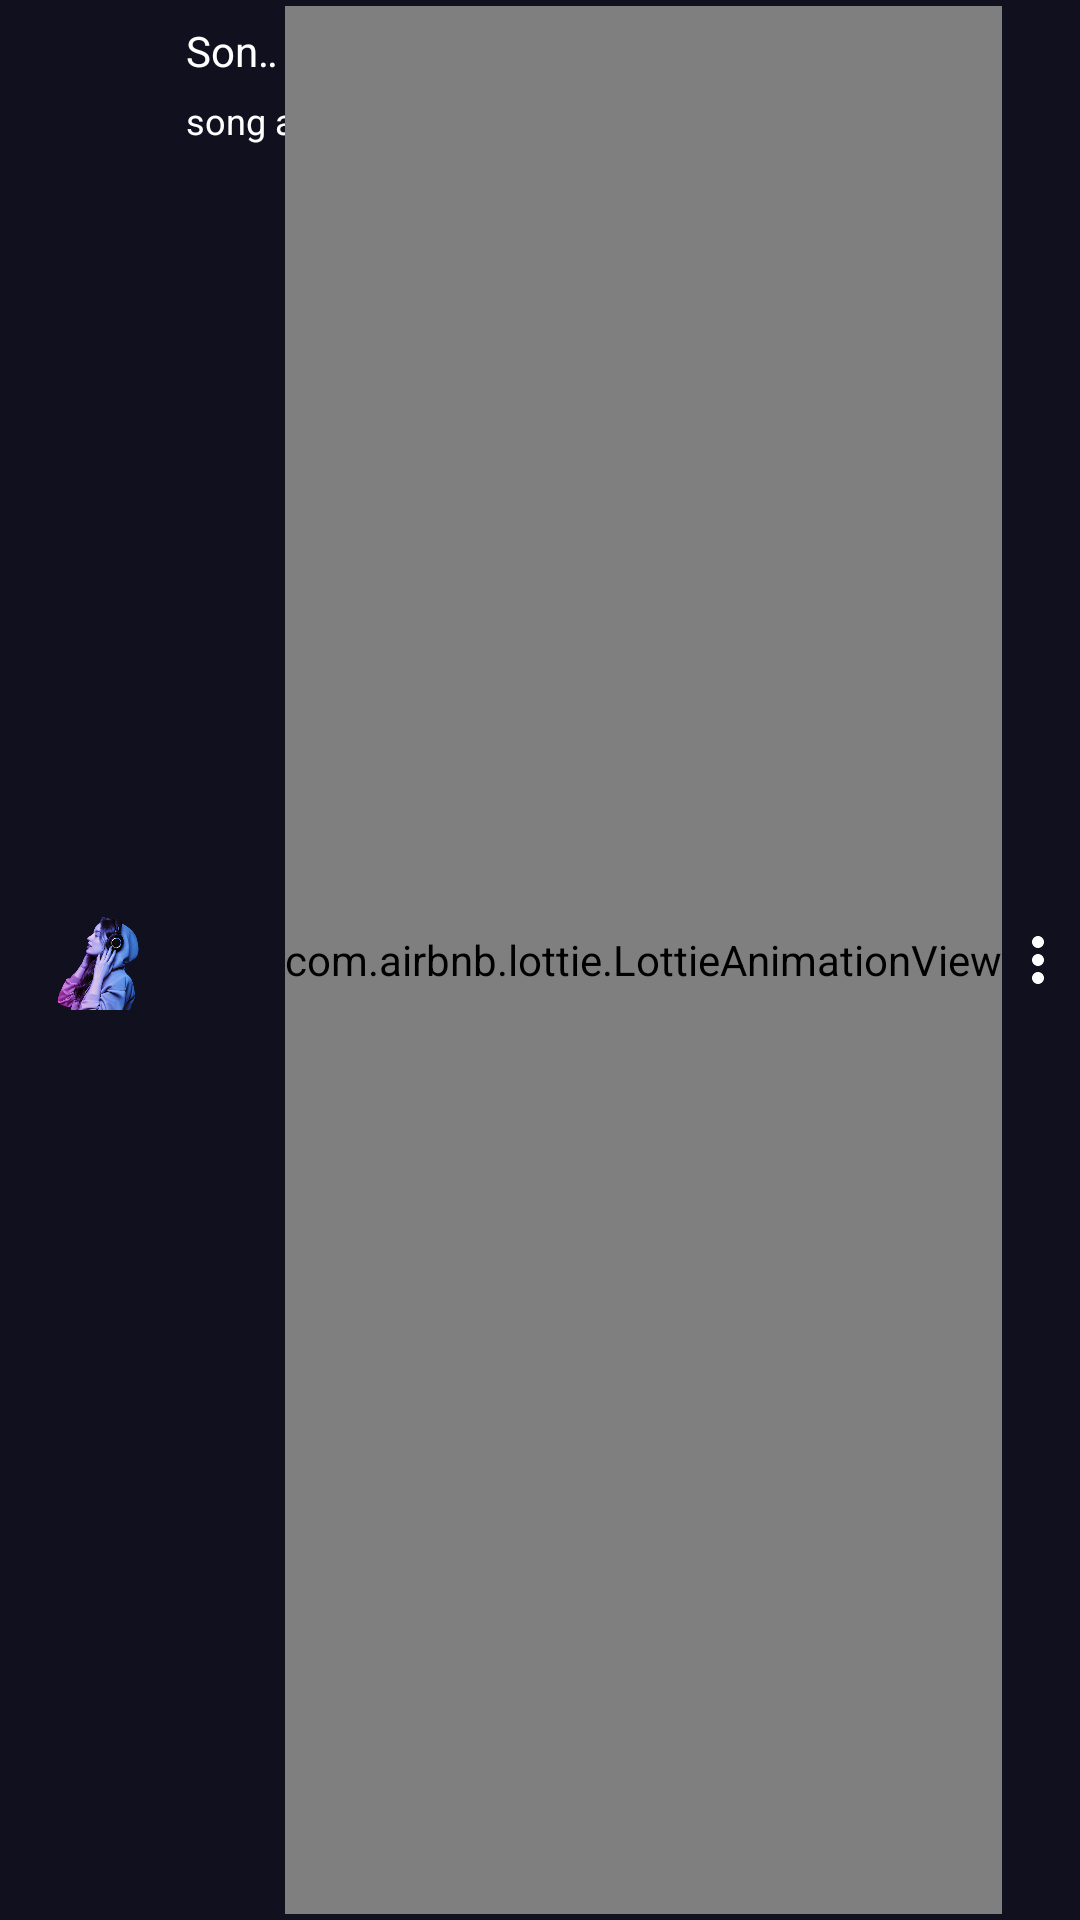

Screen size 1080 x 1920. Icon name, then its box in pixels as (x1, y1, x2, y2):
music listener: (57, 917, 139, 1010)
